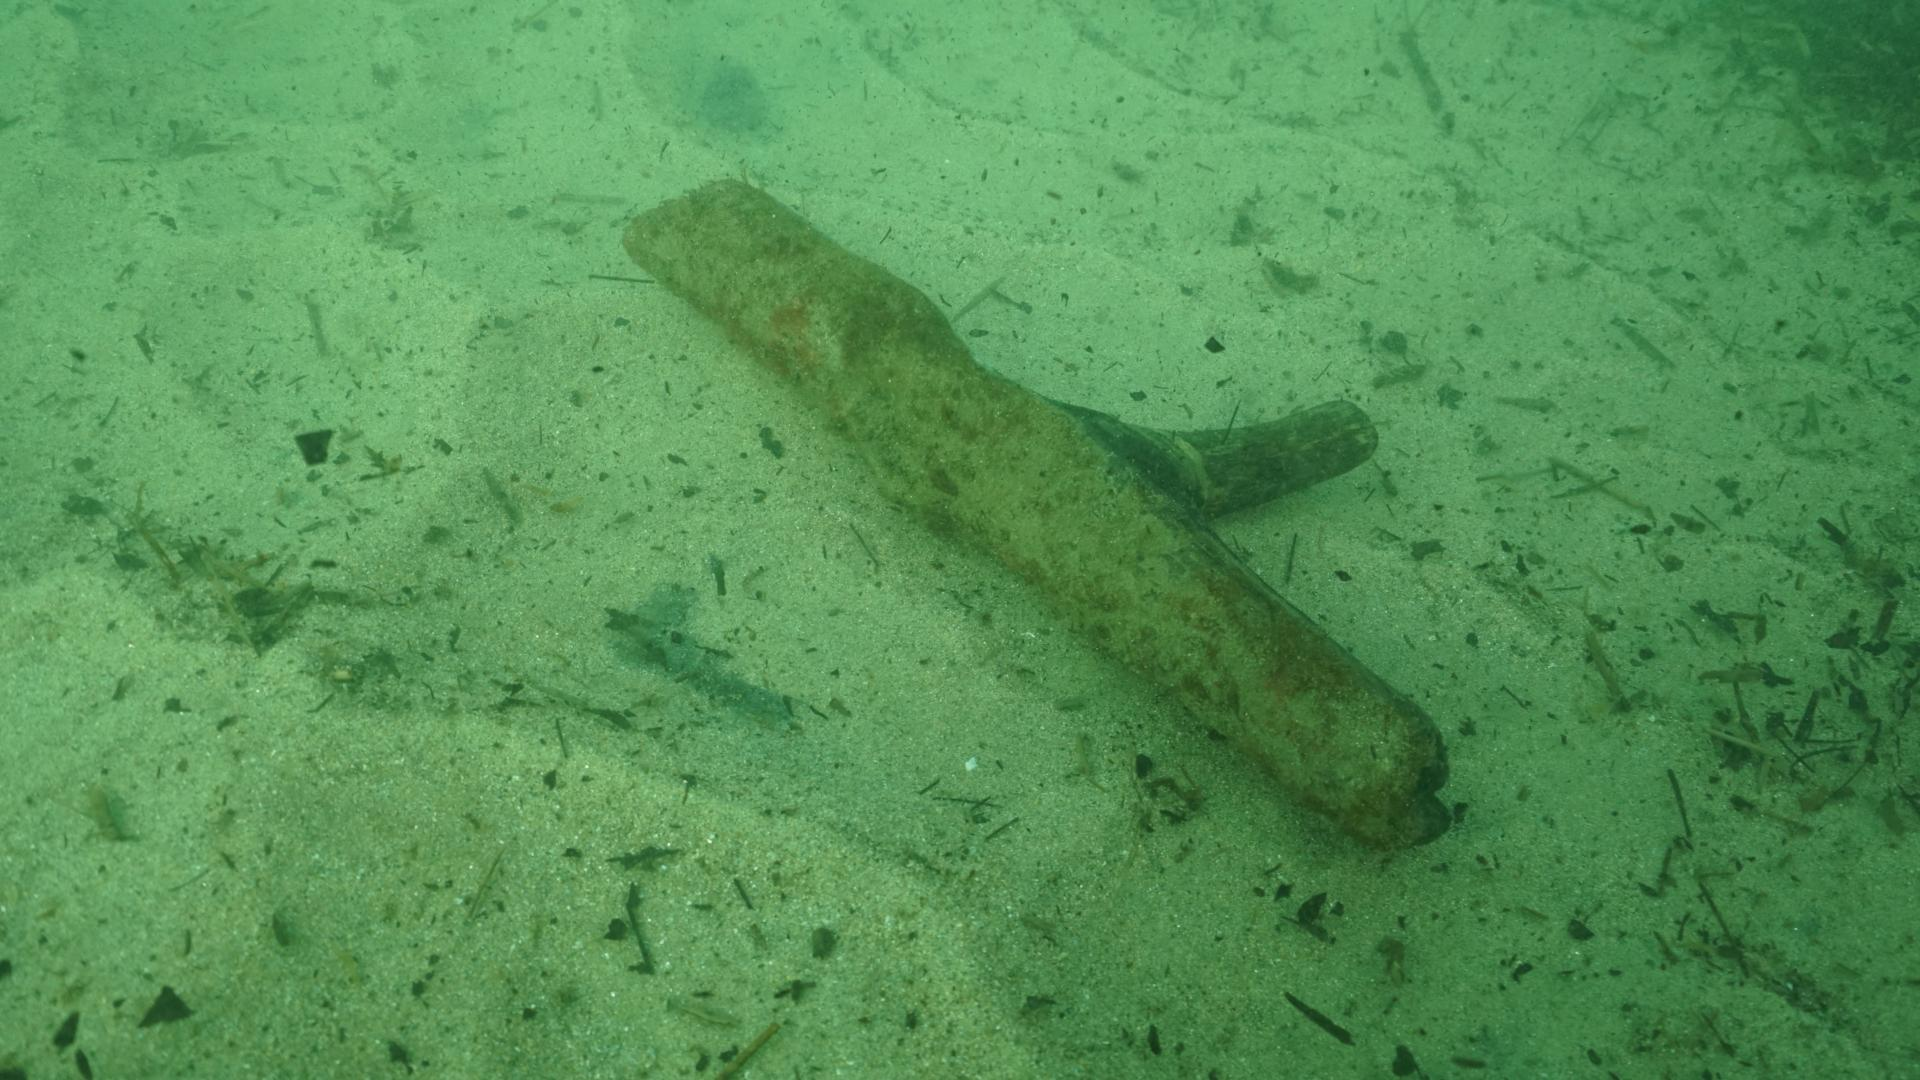wood: (615, 174, 1455, 852)
